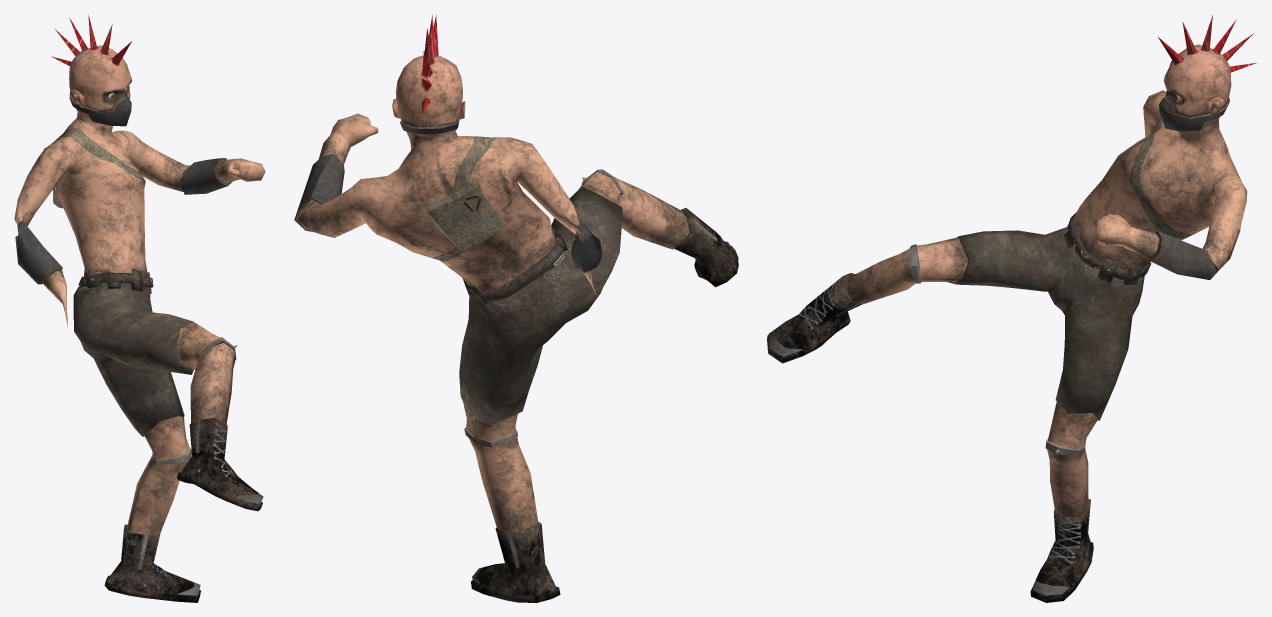
Rendered from Anim_ataque_f2_npc2.0016.obj.
The picture shows the model from 3 angles, left to right: view 1: azimuth 30°, elevation 25°; view 2: azimuth 150°, elevation 25°; view 3: azimuth 270°, elevation 25°; orthographic projection. The views are drawn at different scales.
Parts seen in each view (by area): view 1: polySurface1; view 2: polySurface1; view 3: polySurface1.
Part boxes in pixels (bbox=[...]): polySurface1: bbox=[14, 14, 265, 602]; polySurface1: bbox=[294, 15, 738, 602]; polySurface1: bbox=[767, 15, 1256, 602].
Bounding box in the file's own units: 4.43 × 9.69 × 7.55.
